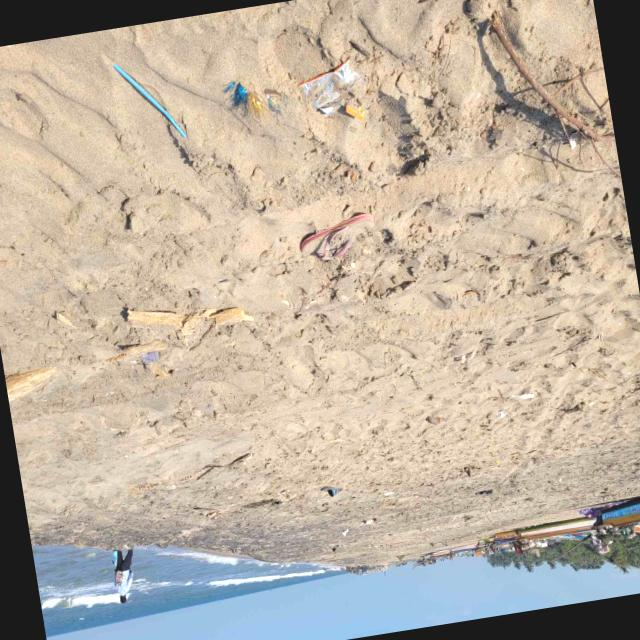dep: (300, 213, 374, 261), (321, 487, 342, 499)
giay_goi: (299, 57, 366, 115)
nhua: (112, 63, 186, 137)
